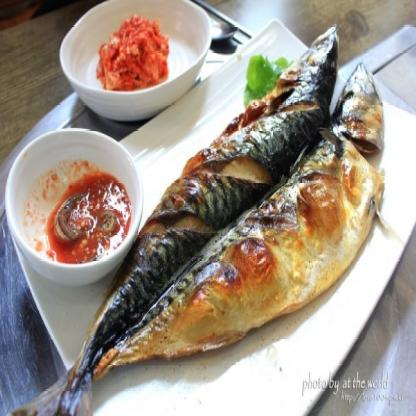Peixe: (49, 14, 384, 416)
